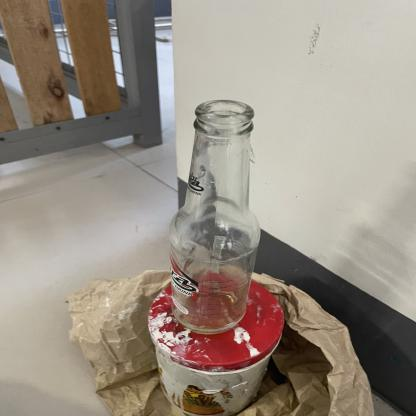Can: (167, 97, 263, 340)
